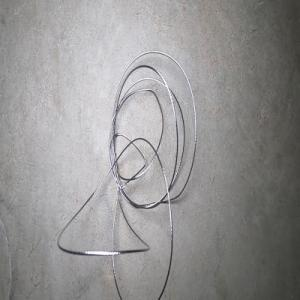Wire: (57, 50, 196, 300)
